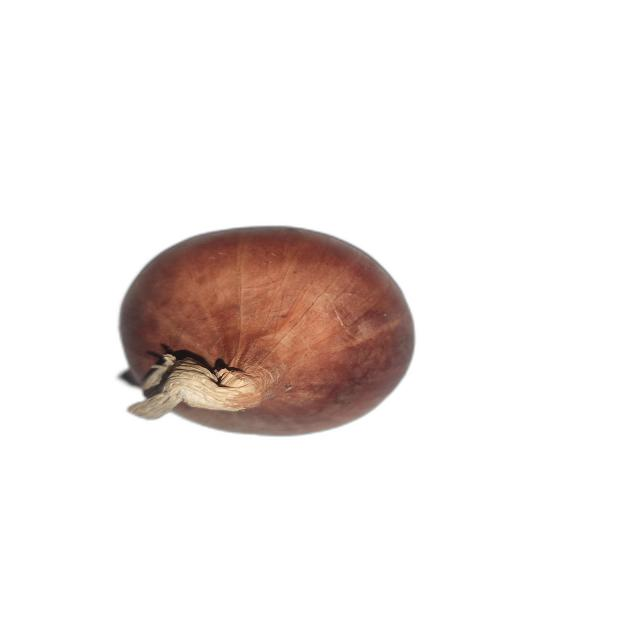onion: (117, 226, 416, 437)
